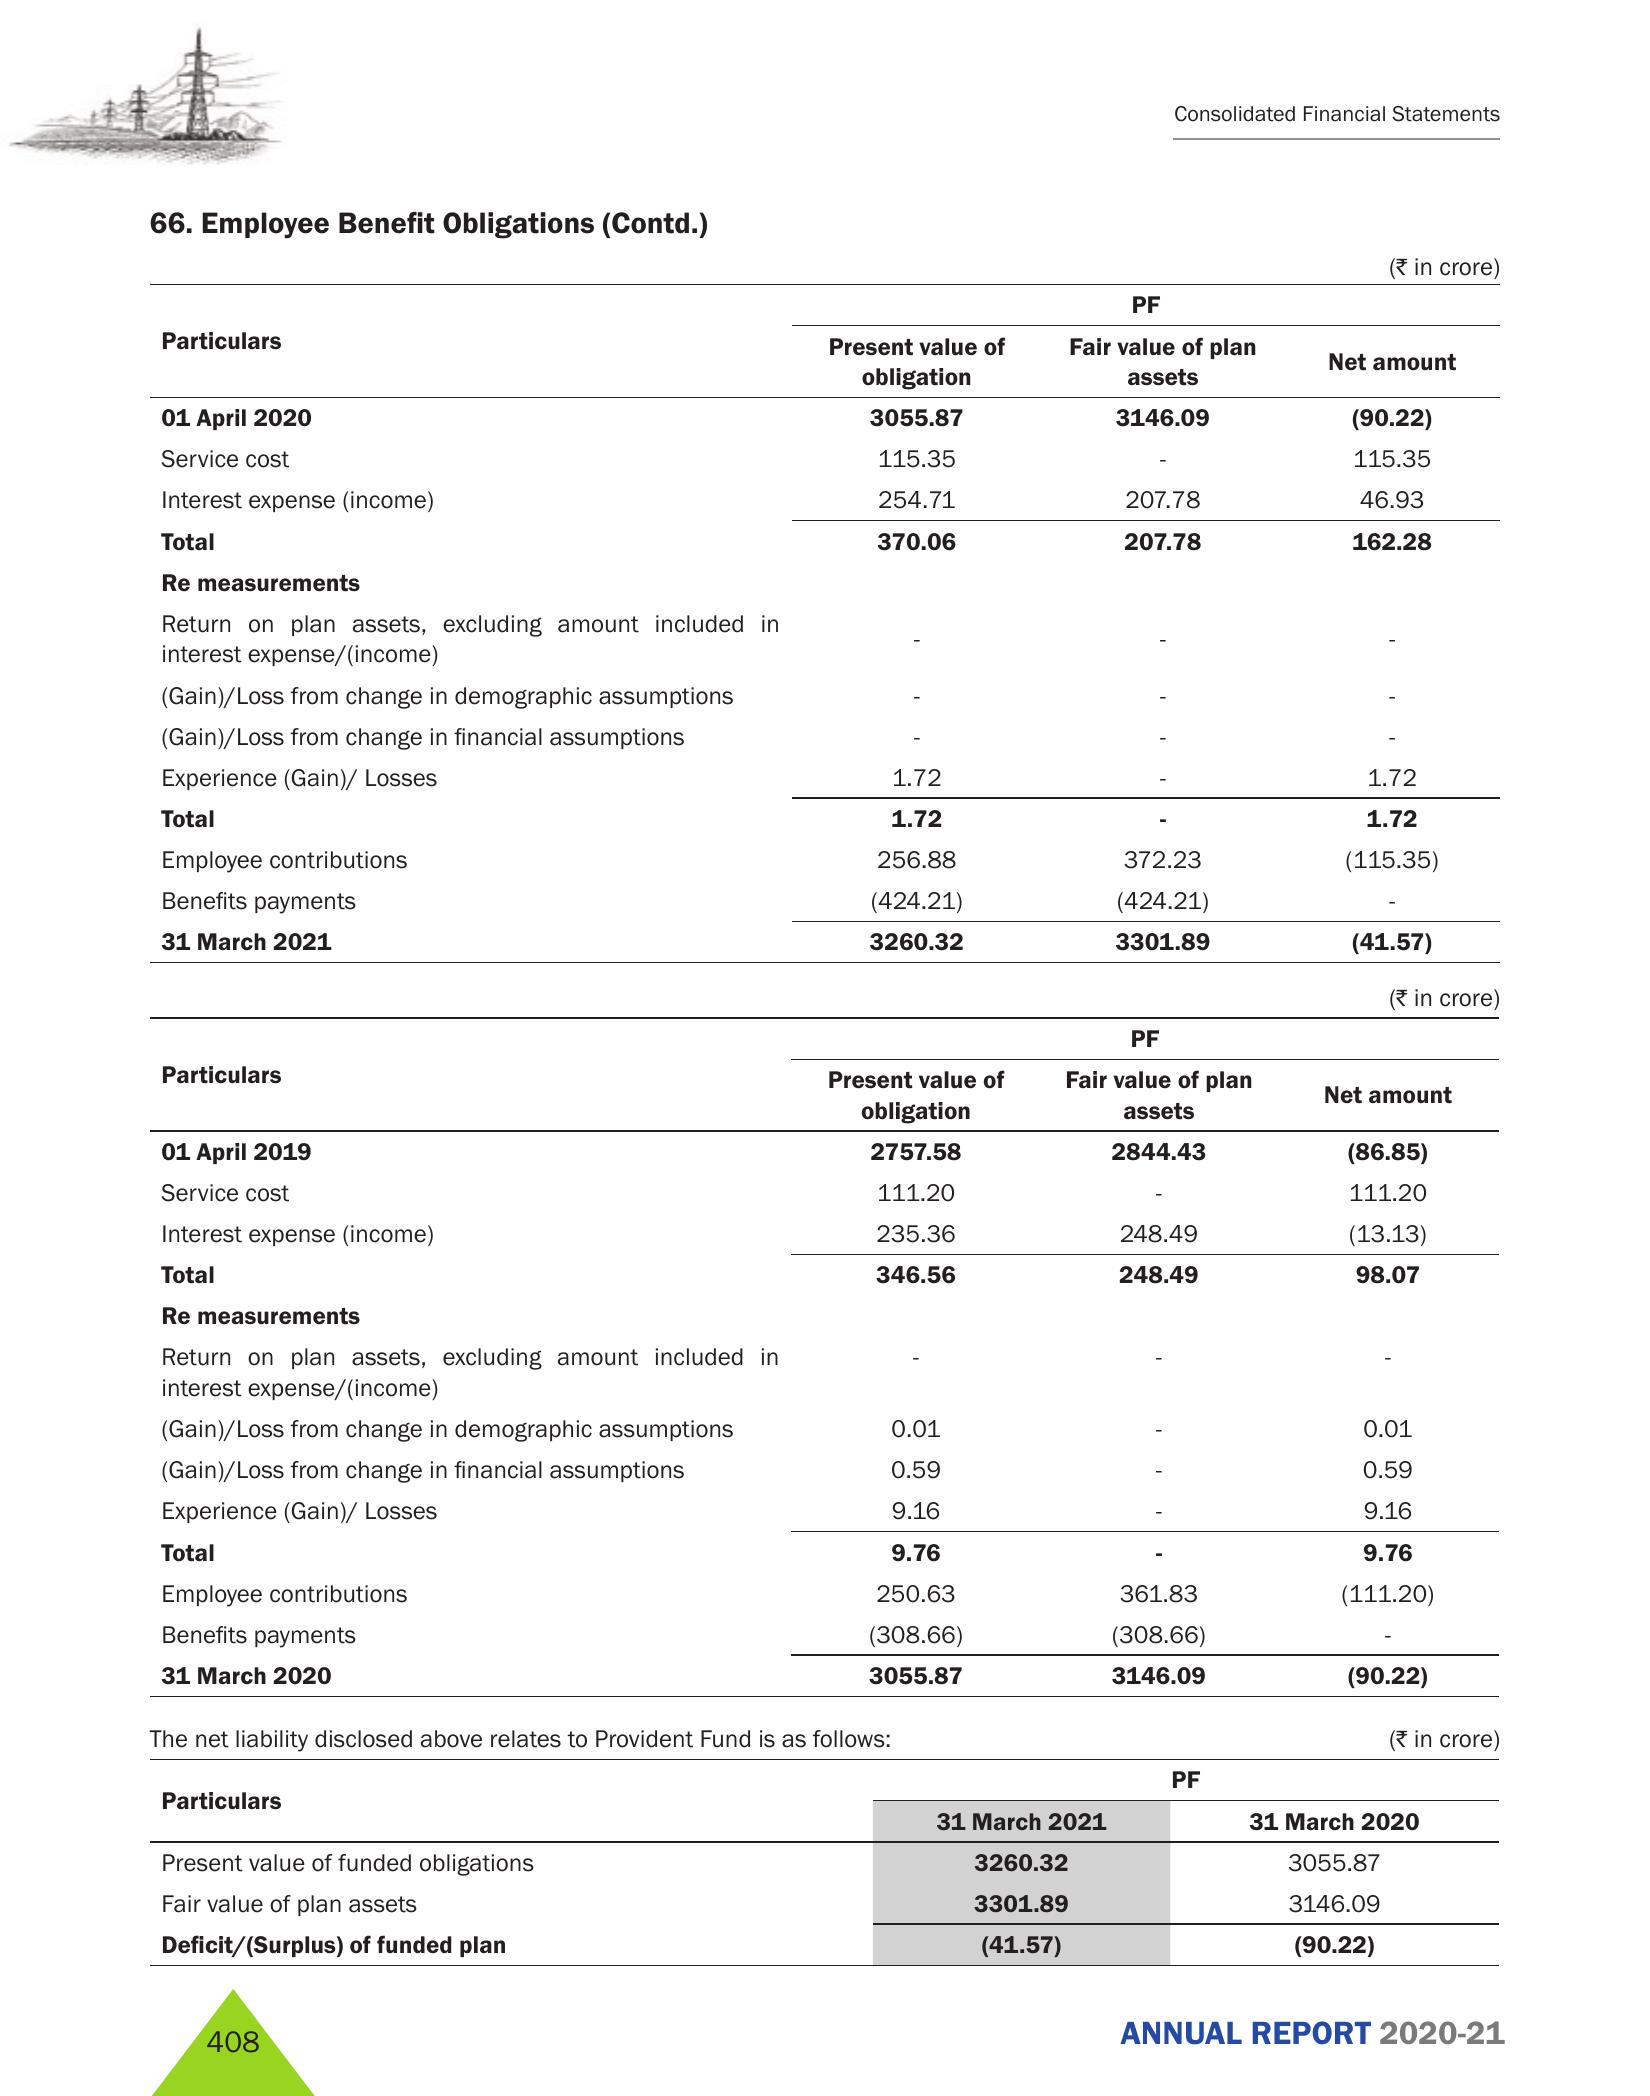Footer: (0, 1991, 1650, 2096)
Header: (0, 0, 1650, 180)
Table: (139, 1012, 1521, 1705), (146, 286, 1516, 971), (143, 1757, 1521, 1968)
